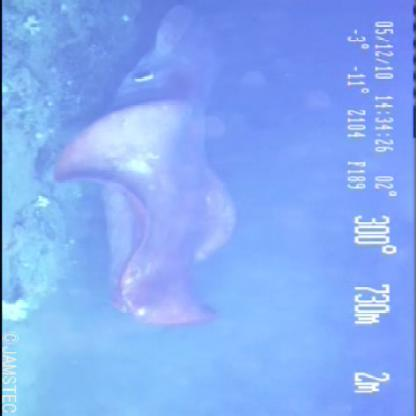Bio: (47, 1, 243, 331)
